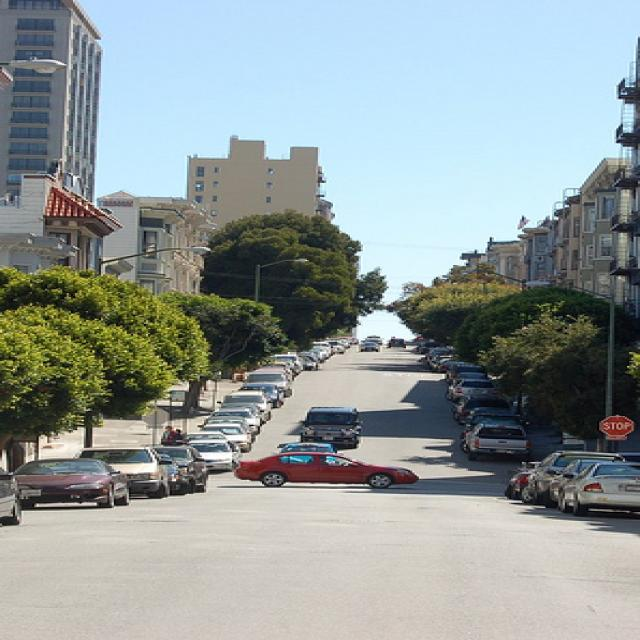Vehicle: (153, 333, 408, 494), (234, 452, 419, 488), (518, 450, 627, 504), (13, 458, 129, 508), (72, 446, 174, 499), (556, 460, 640, 516), (459, 421, 534, 460), (298, 407, 364, 450), (450, 394, 510, 426), (184, 440, 242, 473), (462, 406, 528, 429), (243, 372, 297, 398), (443, 378, 499, 401), (0, 468, 21, 526)
